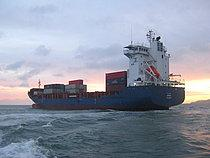Ship: (27, 27, 188, 113)
